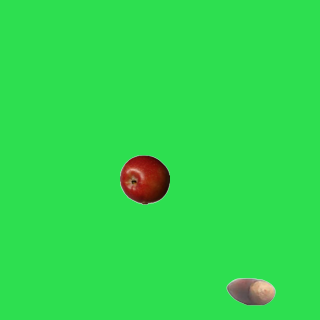Apple Braeburn: (119, 154, 169, 204)
Hazelnut: (225, 266, 275, 316)
